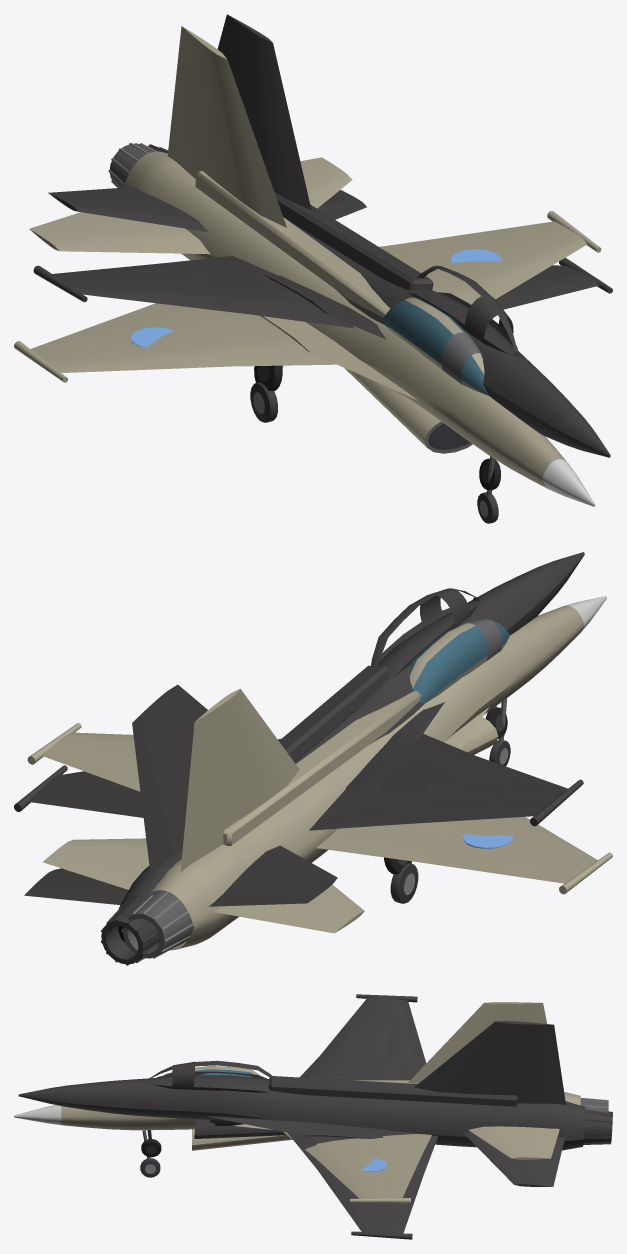
The model's file is lightFighter__kf_16d.glb.
3 renders of one model, top to bottom at view 1: azimuth 30°, elevation 25°; view 2: azimuth 150°, elevation 25°; view 3: azimuth 270°, elevation 25°, orthographic. The views are drawn at different scales.
Parts seen in each view (by area): view 1: Fuselage_Mesh, Wreck; view 2: Fuselage_Mesh, Wreck; view 3: Wreck, Fuselage_Mesh.
Part boxes in pixels (x1=…): Fuselage_Mesh: x1=14, y1=26, x2=601, y2=523; Wreck: x1=33, y1=14, x2=612, y2=490; Fuselage_Mesh: x1=27, y1=596, x2=612, y2=959; Wreck: x1=14, y1=552, x2=584, y2=965; Wreck: x1=18, y1=994, x2=612, y2=1239; Fuselage_Mesh: x1=14, y1=1002, x2=608, y2=1203.
Size of what is drawn, in the model's own units: 10.4 by 4.88 by 15.2.
